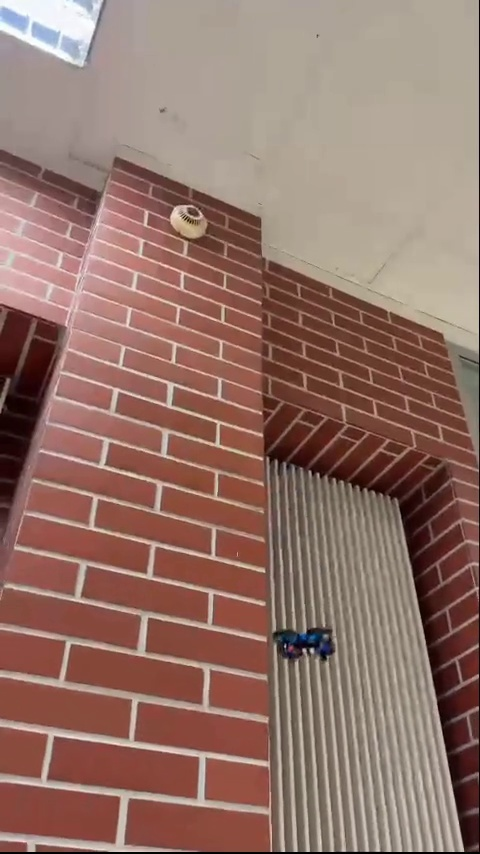drone: (274, 627, 333, 661)
